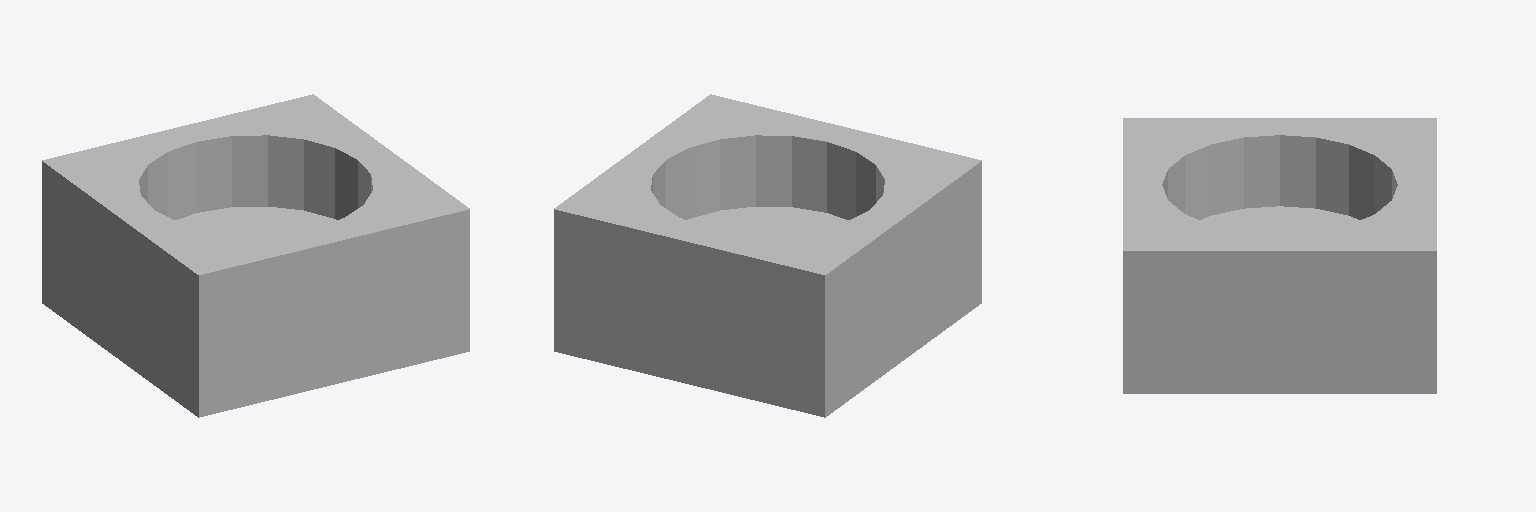
The model's file is ButtonBase.obj.
3 views of the same model, side by side, from view 1: azimuth 30°, elevation 25°; view 2: azimuth 150°, elevation 25°; view 3: azimuth 270°, elevation 25° (orthographic).
Visible parts, largest first — view 1: Mesh1, Mesh2; view 2: Mesh1, Mesh2; view 3: Mesh1, Mesh2.
Boxes of the visible parts, x1=… form: Mesh1: x1=42, y1=94, x2=469, y2=417; Mesh2: x1=139, y1=135, x2=372, y2=233; Mesh1: x1=554, y1=94, x2=981, y2=417; Mesh2: x1=651, y1=135, x2=884, y2=233; Mesh1: x1=1123, y1=118, x2=1436, y2=393; Mesh2: x1=1162, y1=135, x2=1397, y2=234.
Bounding box in the file's own units: 1 × 0.5 × 1.